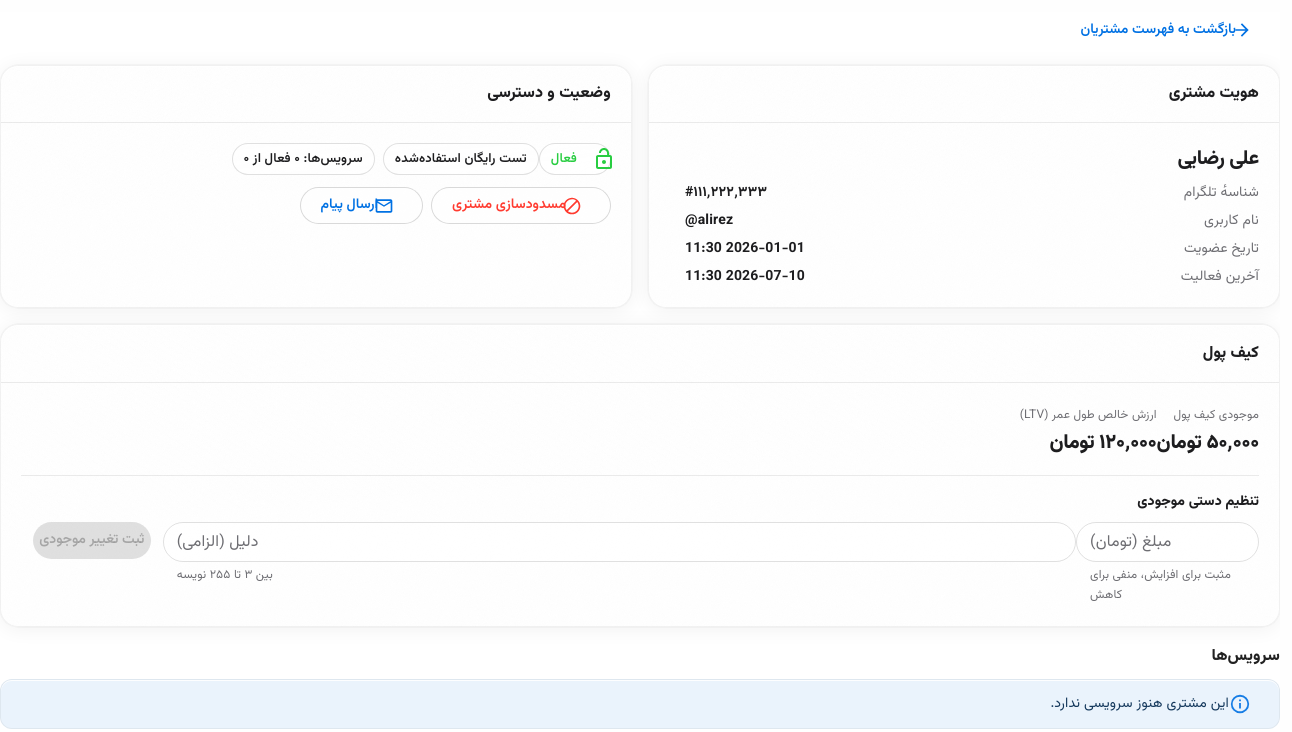
Test: storefront wallet adjustments › shows requested vs applied distinctly when a debit is clamped at zero (overdraw)
The width and height of the screenshot is (1292, 732).
expect the heading "تنظیم دستی موجودی" is shown: met, box [1137,491,1259,513]
Type "-80000" into the field labelled "مبلغ (تومان)" at (1168, 542), box [1076,522,1259,562]
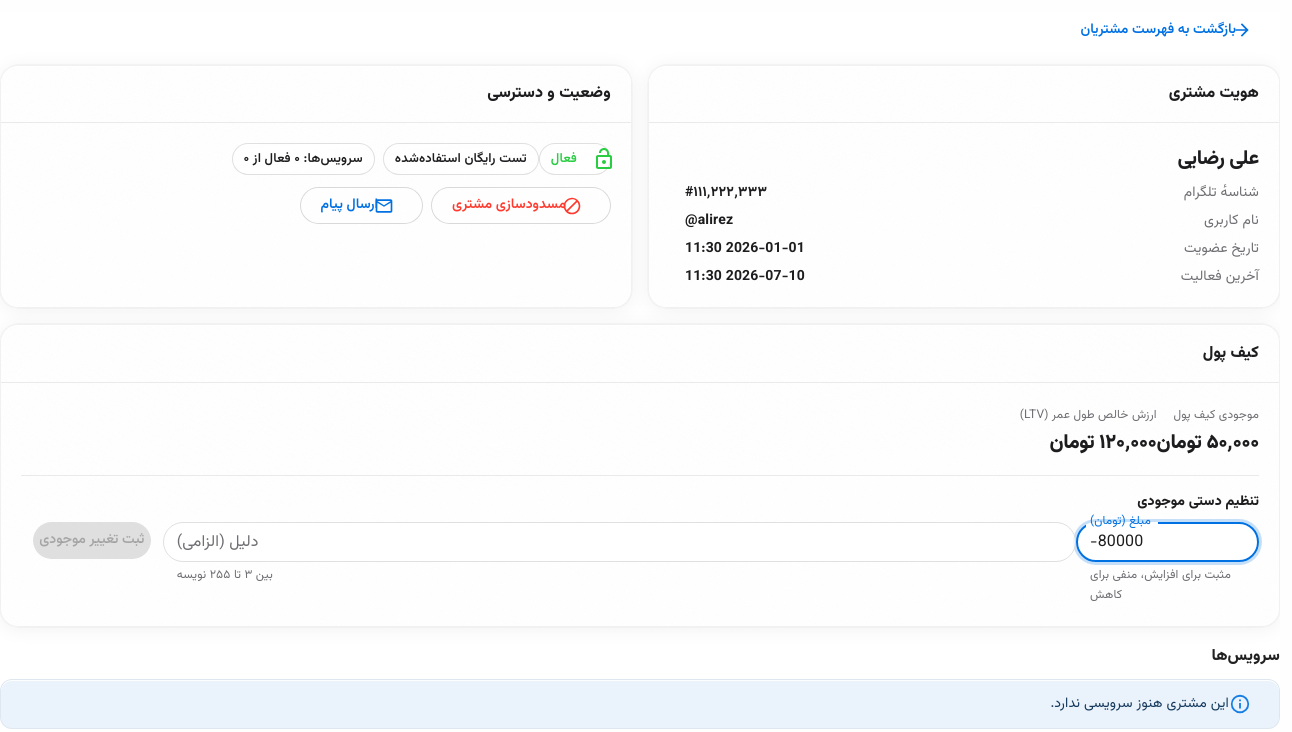
Type "کسر بیش از حد" into the field labelled "دلیل (الزامی)" at (619, 542), box [163,522,1076,562]
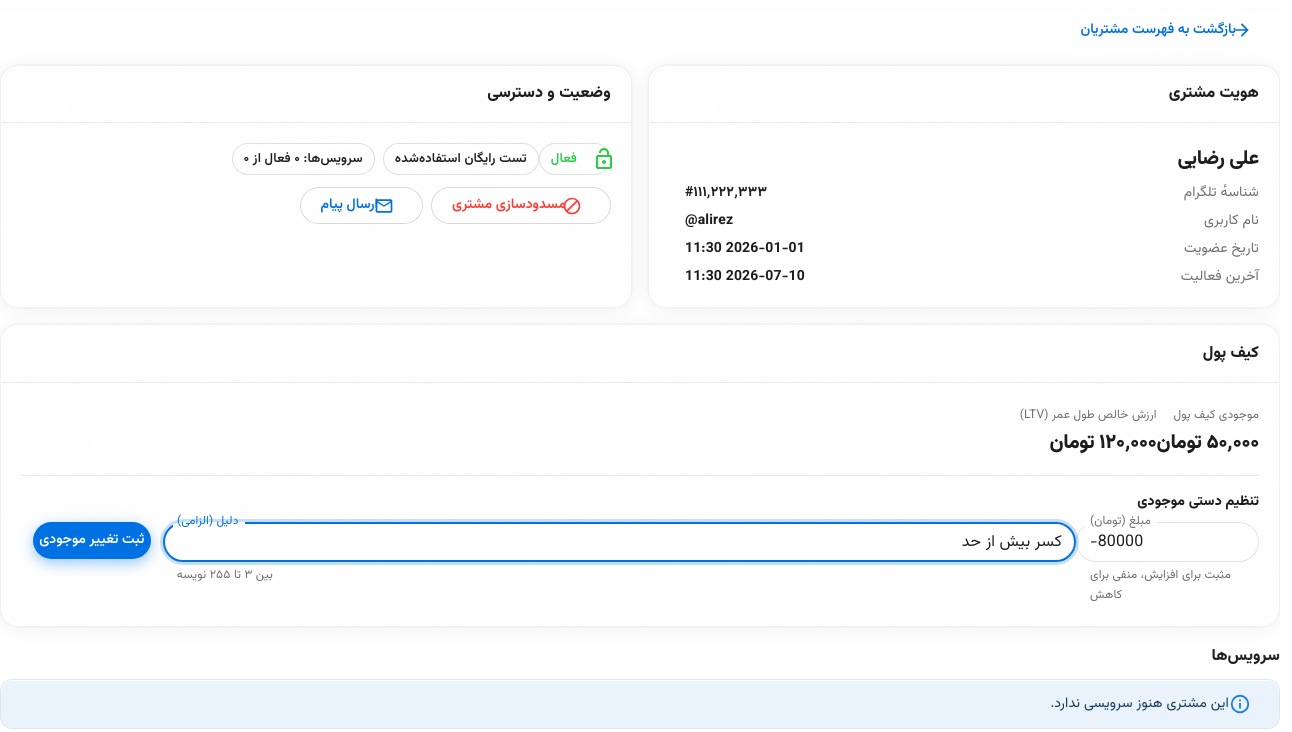
Click the button "ثبت تغییر موجودی" at (92, 540), box [33,522,151,559]
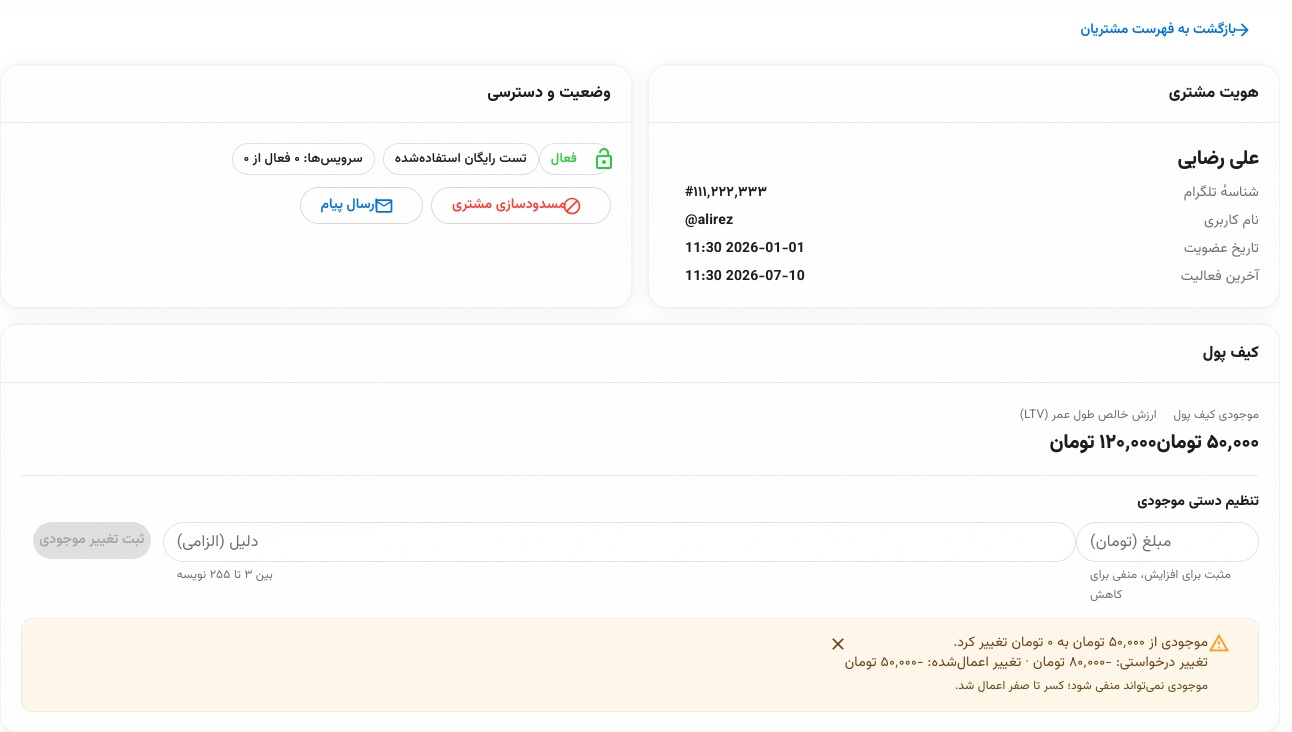
expect the text "تغییر درخواستی" is shown: met, box [1112,652,1208,674]
expect the text "تغییر درخواستی" shows "تغییر اعمال‌شده": met, box [845,652,1033,674]
expect the text "تغییر درخواستی" shows "۵۰٬۰۰۰ تومان": met, box [845,652,1033,674]
